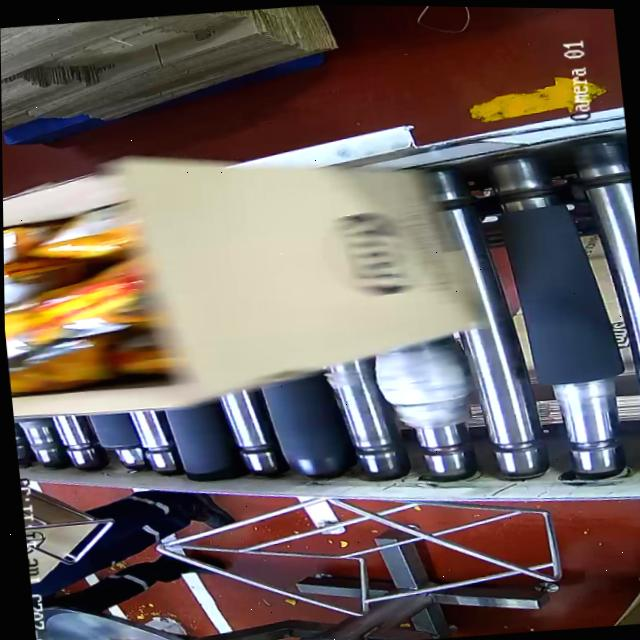FRENCH_CHEESE: (3, 187, 179, 402)
